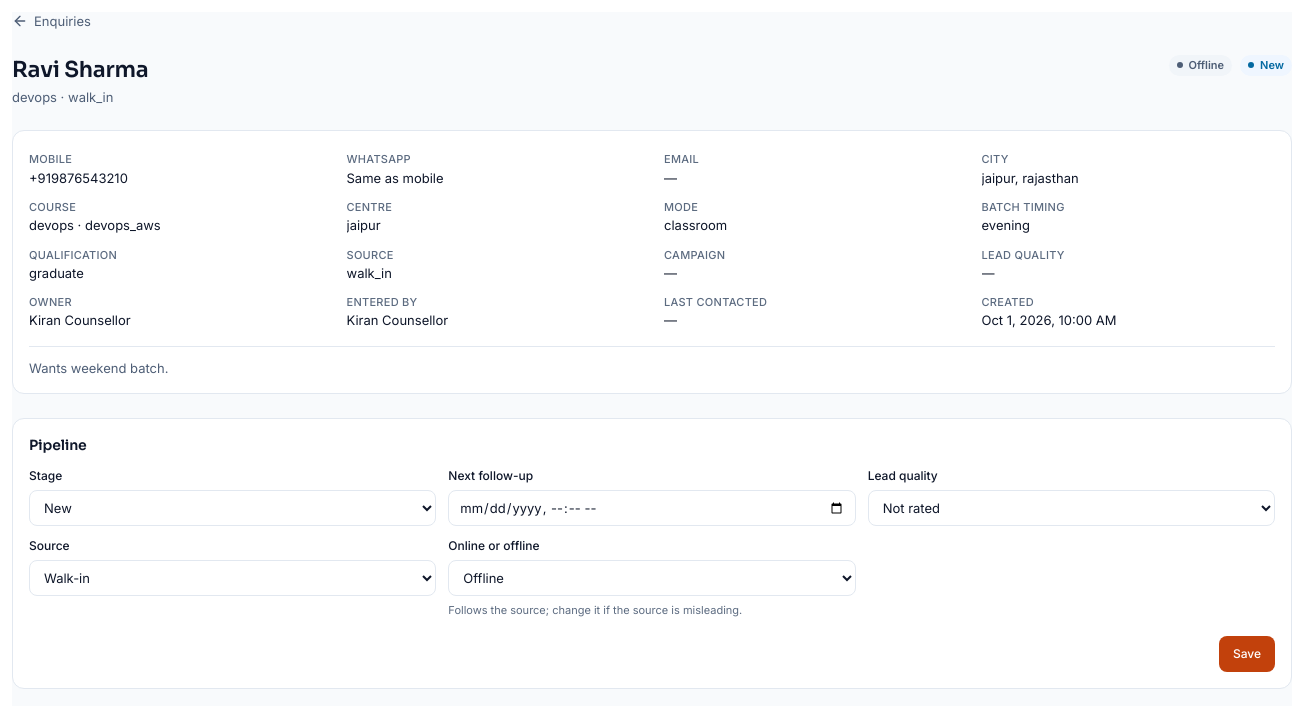
Test: EnquiryScreen › asks for a lost reason only for a lost stage
Expected: the field labelled "Lost reason" is not shown
Select "Not interested" in the dropdown labelled "Stage" at coordinates (233, 508), box [29, 490, 436, 526]
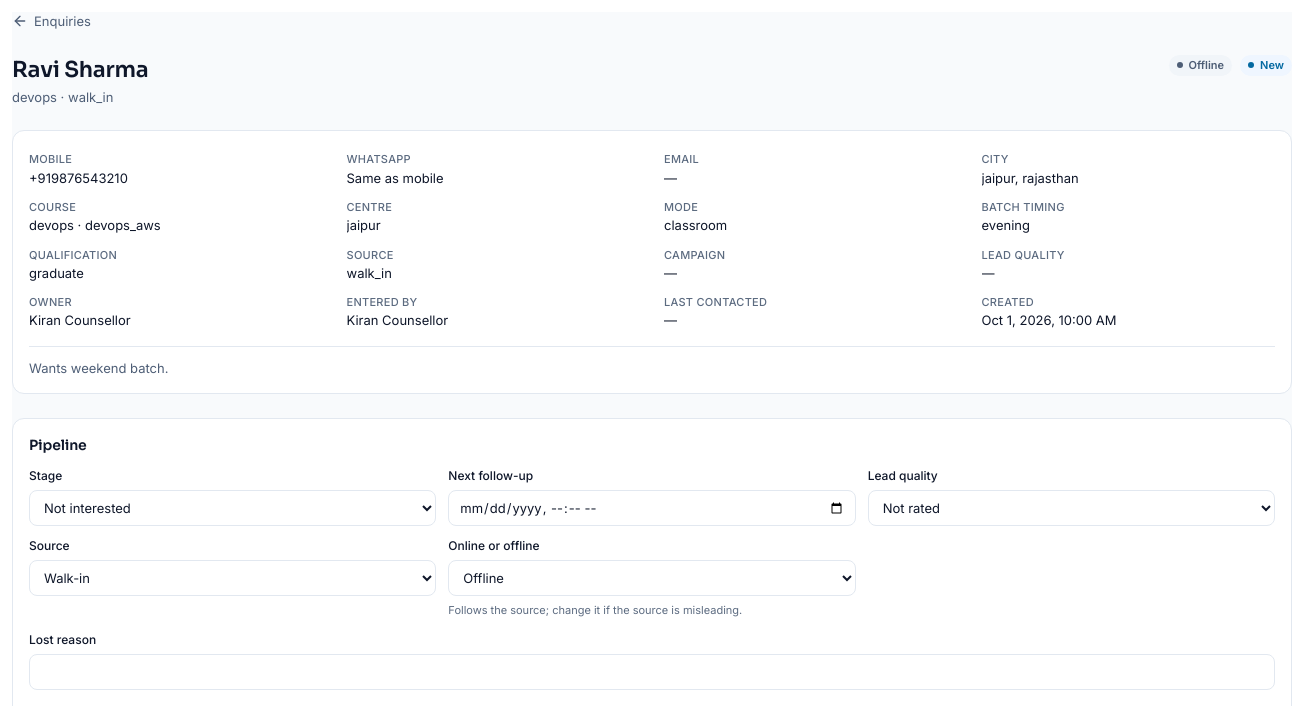
Expected: the field labelled "Lost reason" is shown, [29, 654, 1275, 690]
